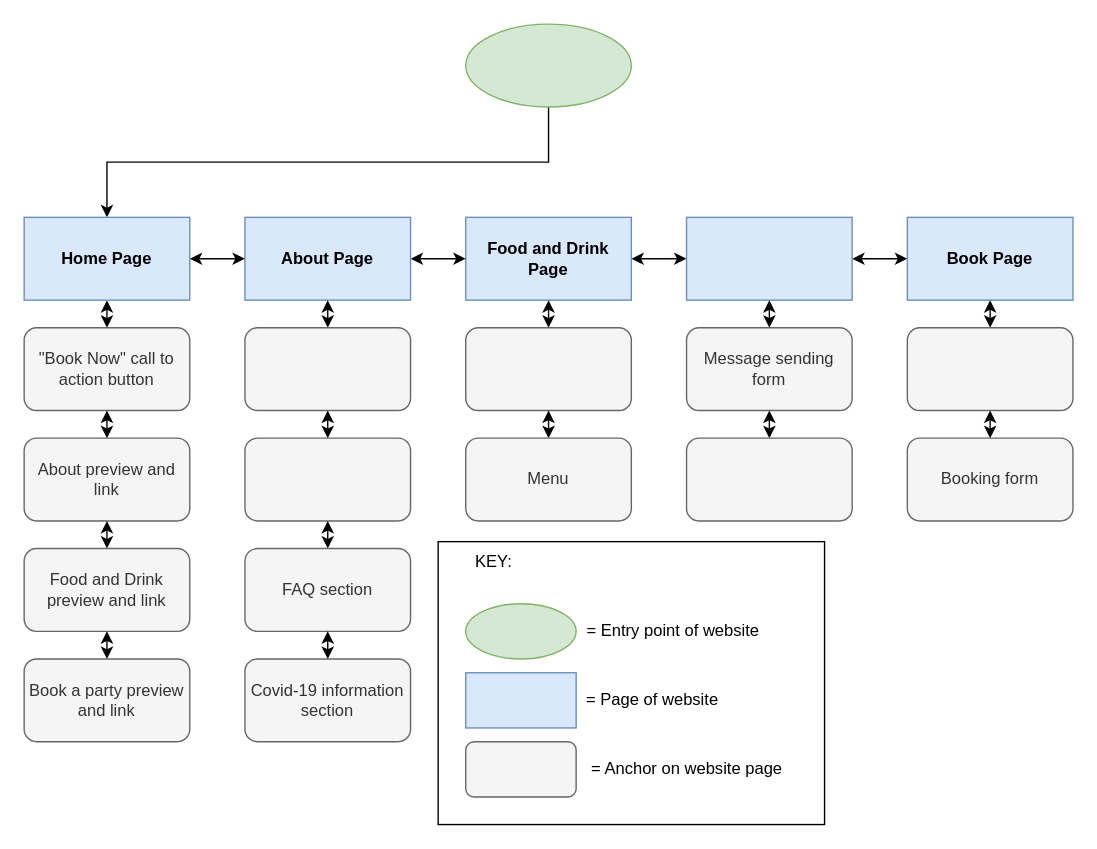
Image size: 1097x849. Some labels were removed from this diagram. Here are the shapes that lost their labels. From the top down, the centre of each, then its label:
point 547,65: Mighty Mini Golf
point 768,258: Contact Page
point 327,368: About content
point 547,368: Dining information section
point 989,368: Prices
point 327,479: Location
point 768,479: Alternative ways to contact section
